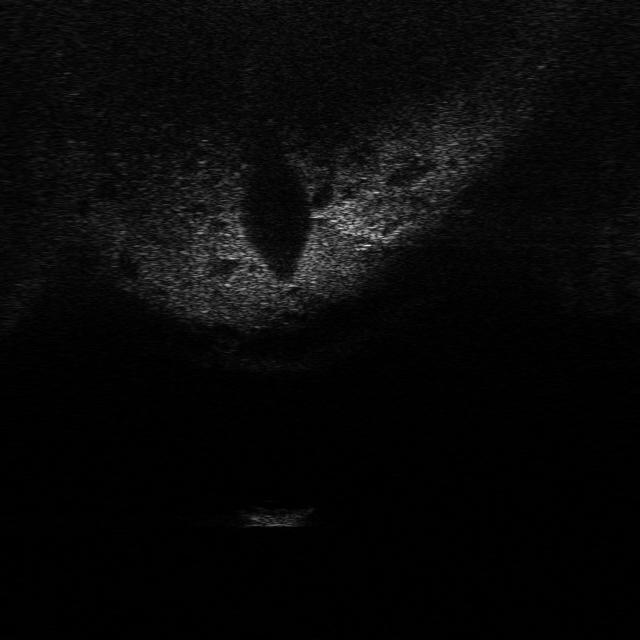cube: (237, 497, 319, 532)
